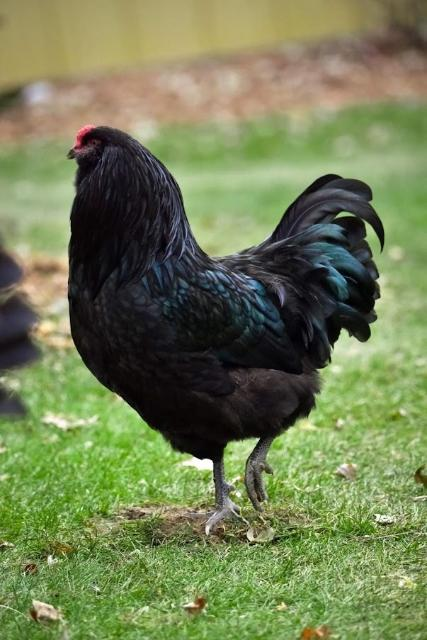Chicken: (65, 125, 386, 532)
